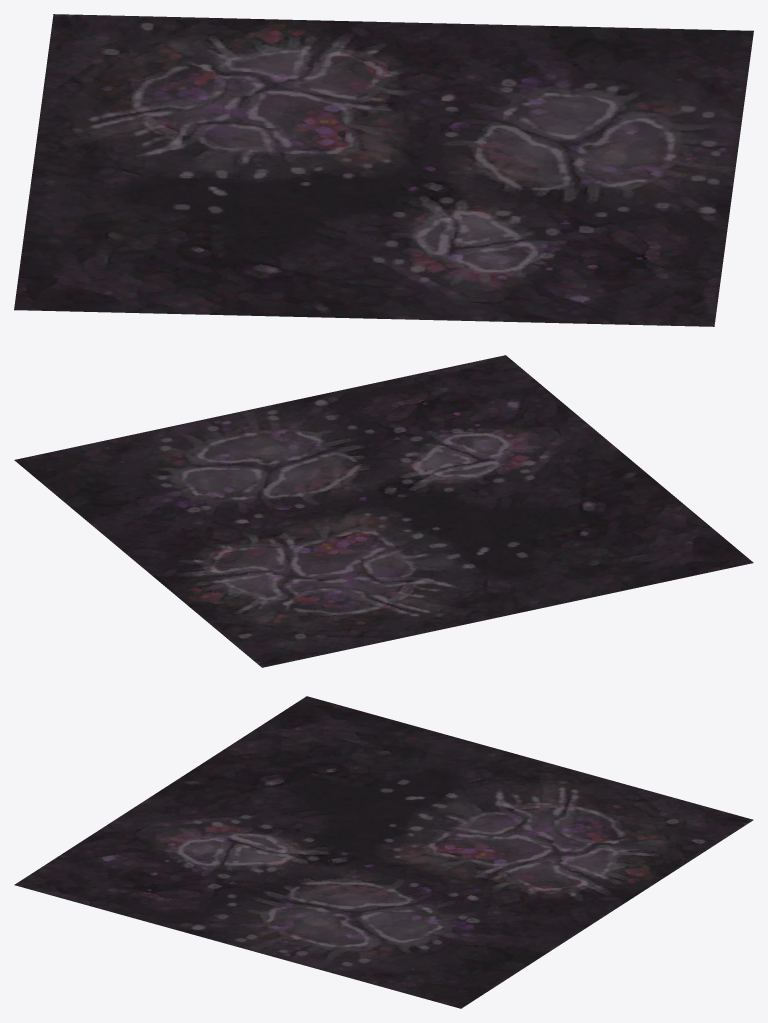
Rendered from cave_floor_mushrooms_26.fbx.
The picture shows the model from 3 angles, top to bottom: view 1: azimuth 30°, elevation 25°; view 2: azimuth 150°, elevation 25°; view 3: azimuth 270°, elevation 25°; orthographic projection. The views are drawn at different scales.
Parts seen in each view (by area): view 1: cave_tileset/Floormushrooms_04_mat; view 2: cave_tileset/Floormushrooms_04_mat; view 3: cave_tileset/Floormushrooms_04_mat.
Boxes of the visible parts, bbox=[...] form: cave_tileset/Floormushrooms_04_mat: bbox=[14, 14, 753, 326]; cave_tileset/Floormushrooms_04_mat: bbox=[14, 355, 753, 667]; cave_tileset/Floormushrooms_04_mat: bbox=[14, 696, 753, 1008].
Bounding box in the file's own units: 5.7 × 0 × 5.7.
